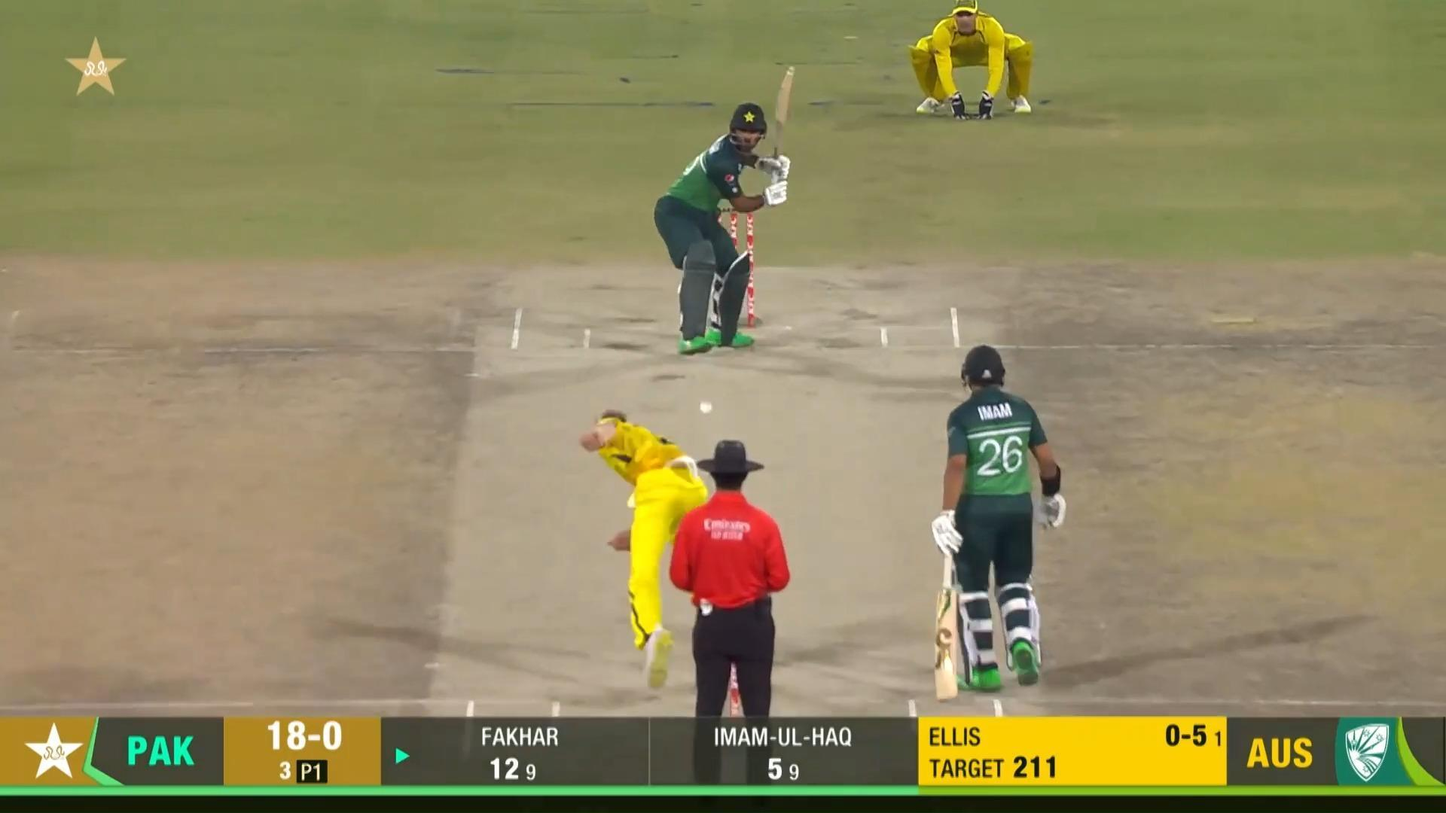BM 1: (652, 61, 799, 358)
BO: (580, 408, 715, 694)
